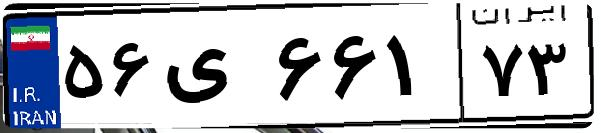1: (385, 28, 445, 110)
3: (525, 38, 570, 115)
5: (57, 26, 110, 100)
6: (270, 28, 330, 110), (330, 28, 385, 110), (110, 28, 158, 98)
7: (475, 38, 525, 113)
ی: (158, 20, 270, 120)
